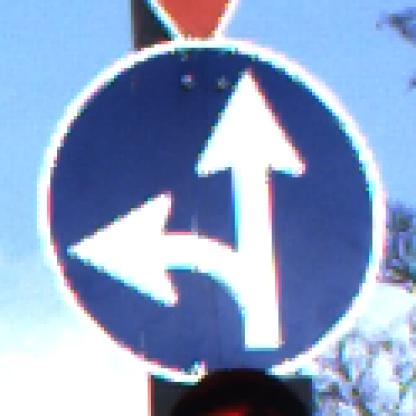Straight or Left: (38, 38, 383, 383)
